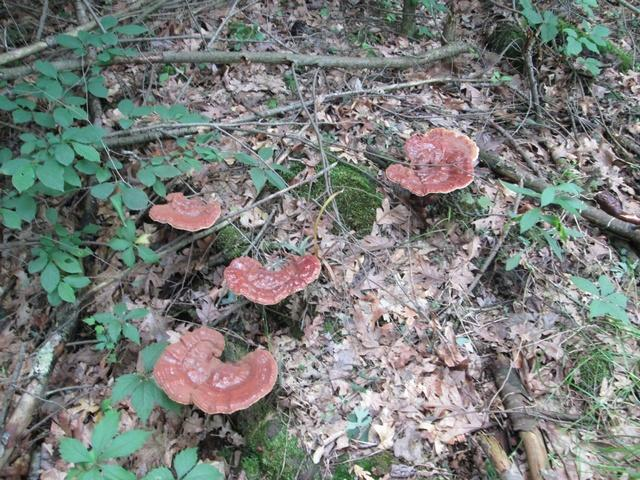poisonous_mushroom: (151, 325, 278, 415), (384, 126, 480, 199), (223, 252, 321, 306), (141, 189, 226, 228)
